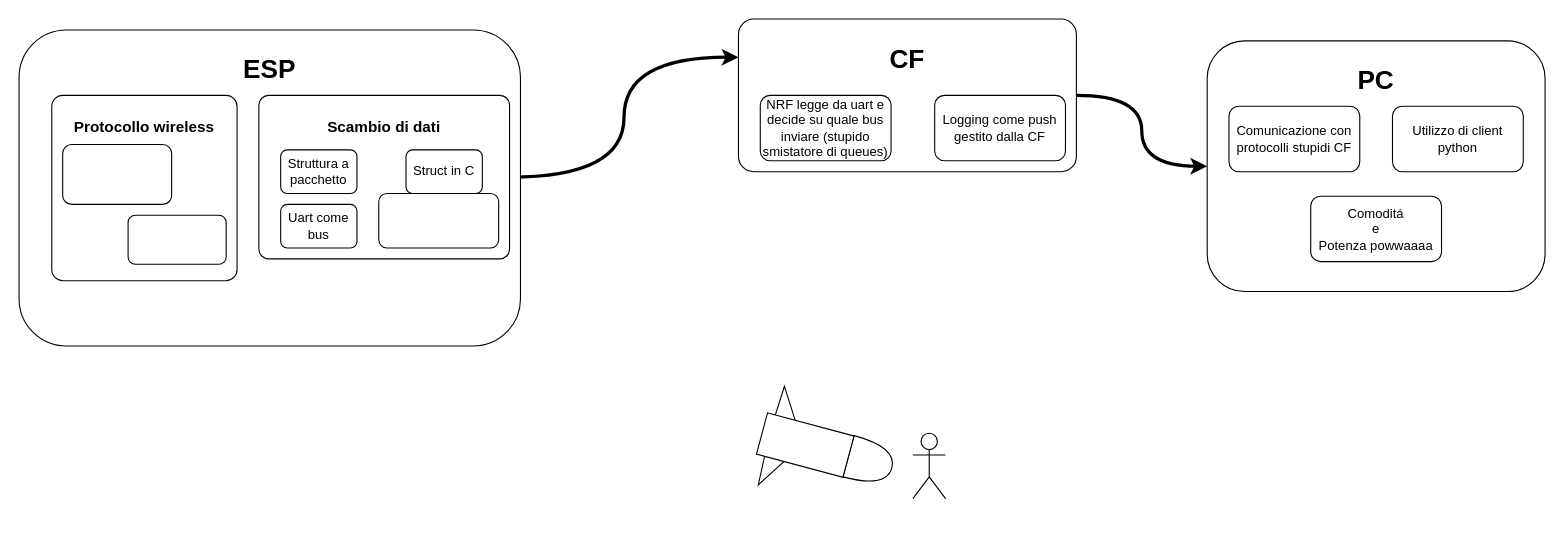
This 1564x541 diagram has some shape labels left out. The shapes that lost their labels are listed below. From the top down, each one's centre as x and y in pixels, then its label:
At (117,173): "BLE scanning senza binding".
At (176,239): "SSI giá noto a priori".
At (438,220): "COBS per encoding (contine CRC)".
At (804,444): "From iran".
At (929,465): "Eyad".
